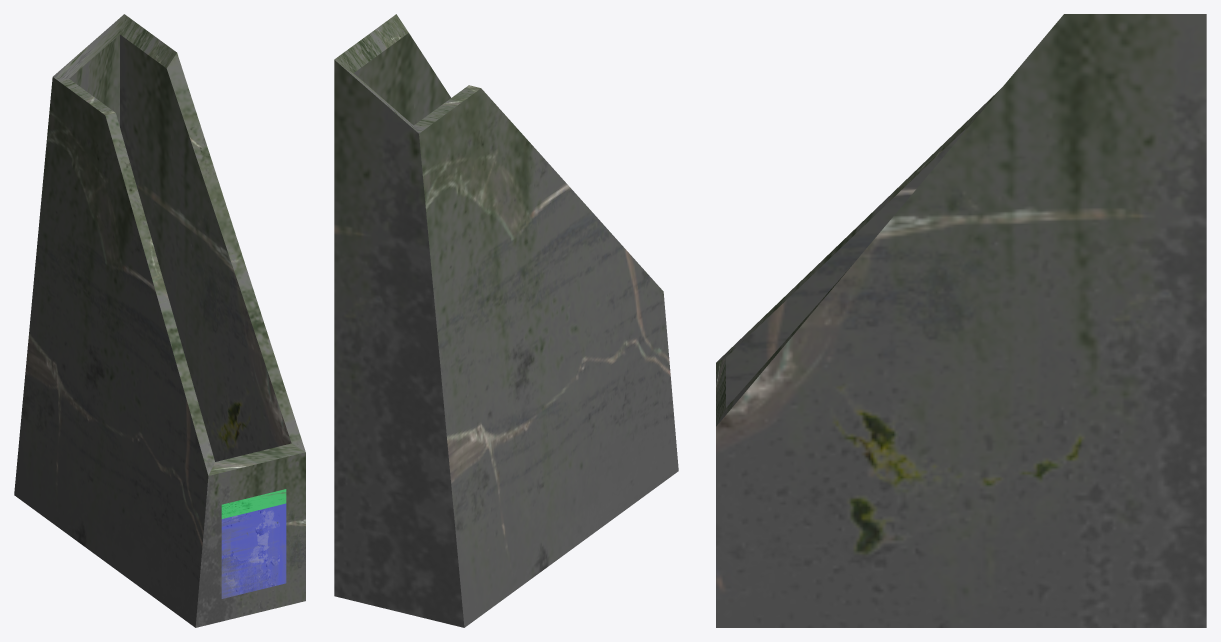
The model's file is fileholder_empty_02.fbx.
The picture shows the model from 3 angles, left to right: view 1: azimuth 30°, elevation 25°; view 2: azimuth 150°, elevation 25°; view 3: azimuth 270°, elevation 25°; orthographic projection. The views are drawn at different scales.
Parts seen in each view (by area): view 1: fileholder_empty_02; view 2: fileholder_empty_02; view 3: fileholder_empty_02.
Boxes of the visible parts, x1,y1,x2,y2 form: fileholder_empty_02: (14, 14, 305, 627); fileholder_empty_02: (334, 14, 678, 627); fileholder_empty_02: (716, 14, 1206, 627).
Bounding box in the file's own units: 0.07 × 0.2755 × 0.203.
